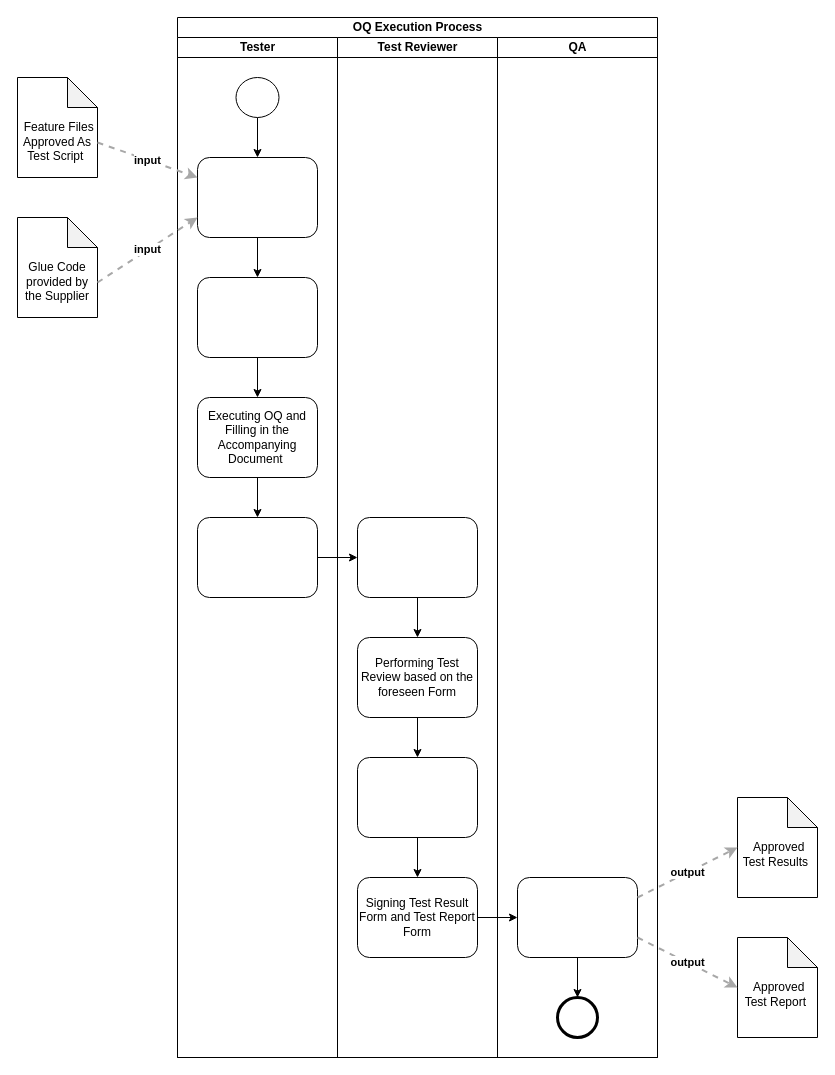
Some shapes in this 835 by 1075 pixel diagram are drawn without their labels. Here are the shapes that lost their labels. From the top down, the centre of each, then its label:
point (257, 197): Checking correctness of the Feature Files and of the Glue Code
point (257, 317): Setting-up OQ Test App
point (257, 557): Putting the signed Test Results and Accompanying Document in the foreseen Folder
point (417, 557): Viewing Test Results in Scenarioo for Test Review
point (417, 797): Writting the Test Report based on the foreseen Form
point (577, 917): Approving Test Results and Reviewing and Approving Test Report
